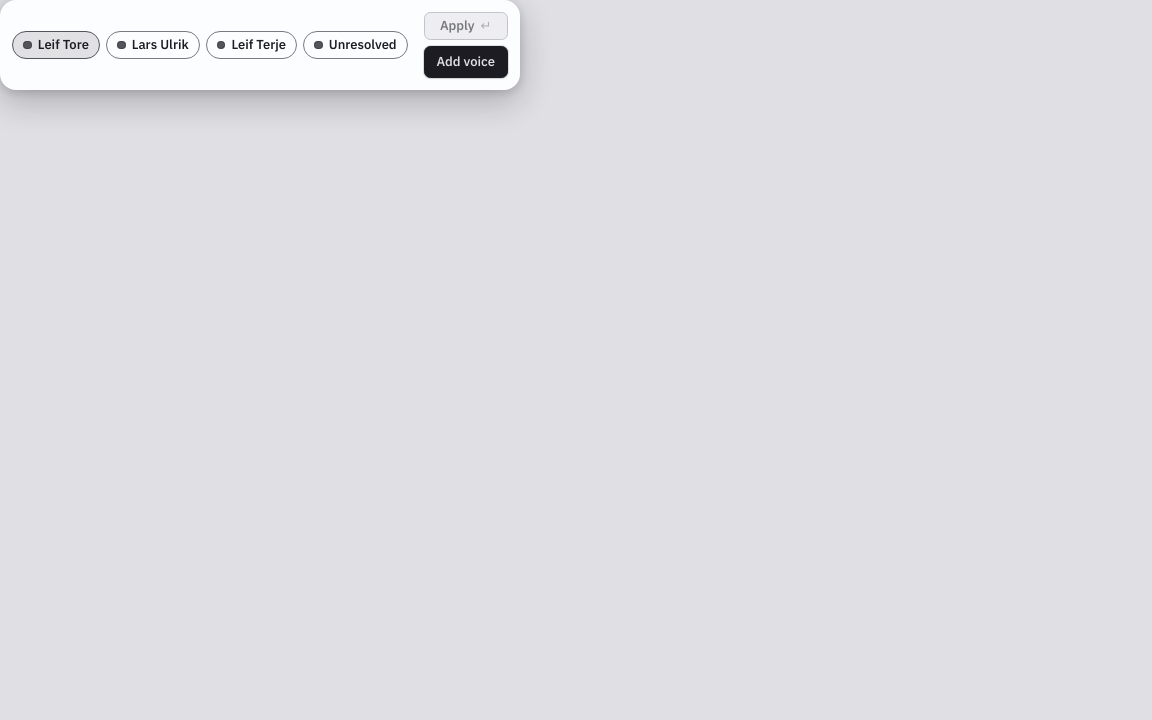
Test: PerformerPicker layout › keeps the action button inside the card when the roster fills the row
# Deselecting the last performer swaps in the removal label, the widest one.
Click the button "Leif Tore" at (56, 45), box [12, 31, 100, 59]
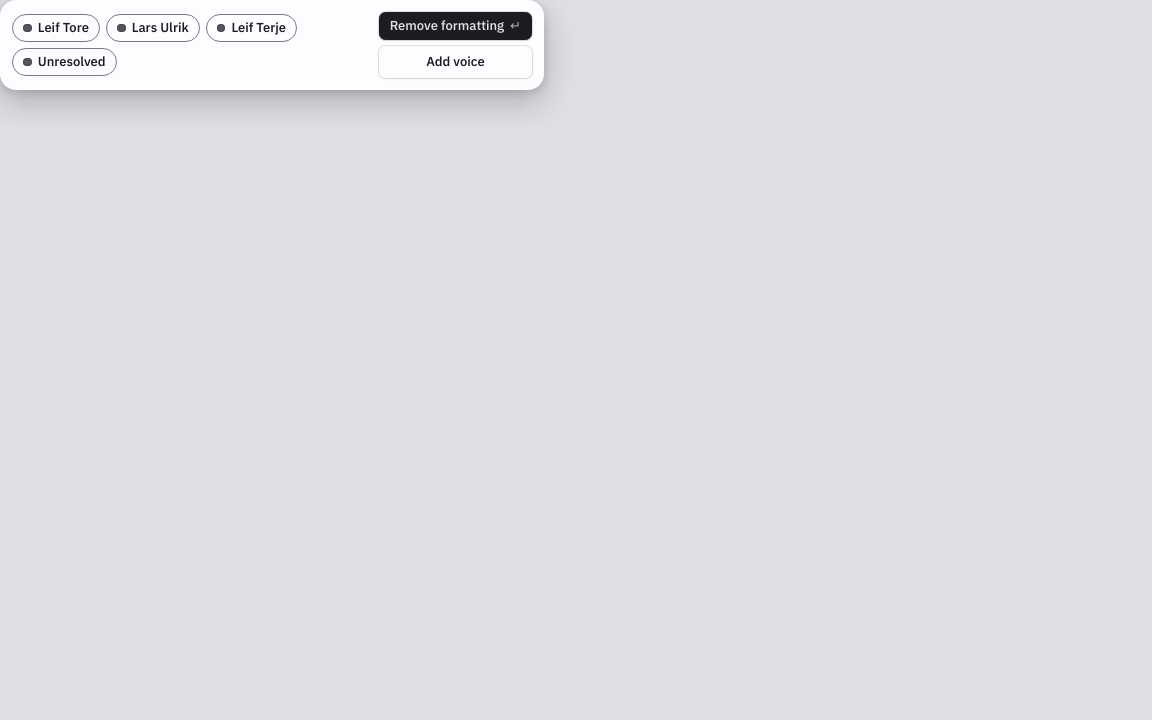
Expected: the dialog is shown, [0, 0, 544, 90]
Result: the button "Remove formatting ↵" is shown at [379, 12, 532, 40]
